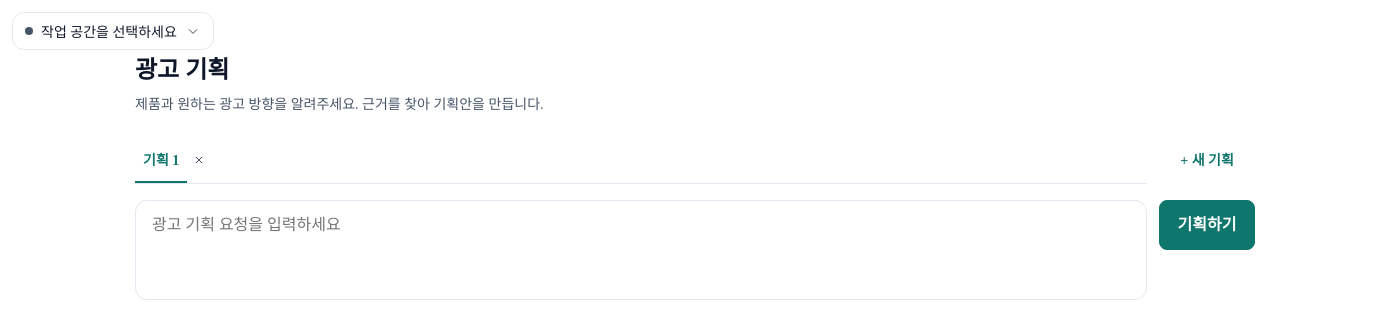
Scenario: enables input only after workspace selection and has no preset request buttons
Expected: the text box labelled "요청" is disabled, [135,200,1147,300]
Click the button "작업 공간을 선택하세요".
click(113, 31)  # box [12,12,214,50]
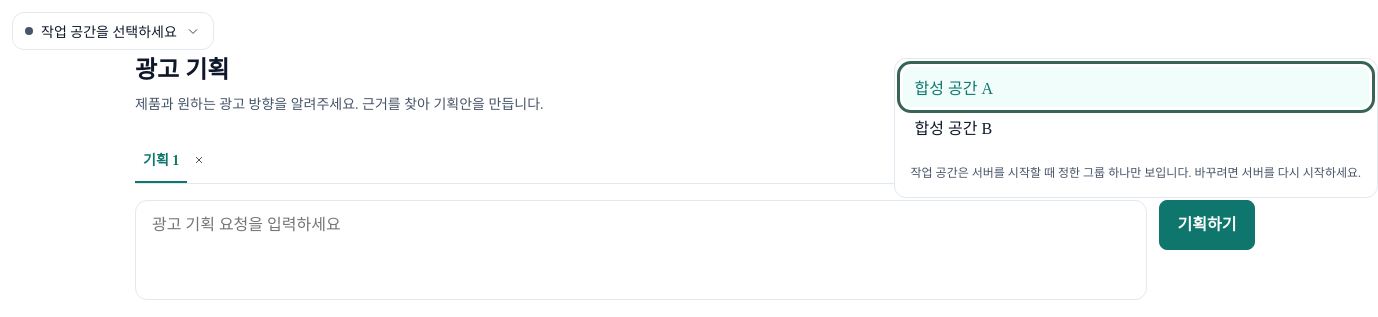
Click the option "합성 공간 A".
click(954, 88)  # box [902,67,1369,107]
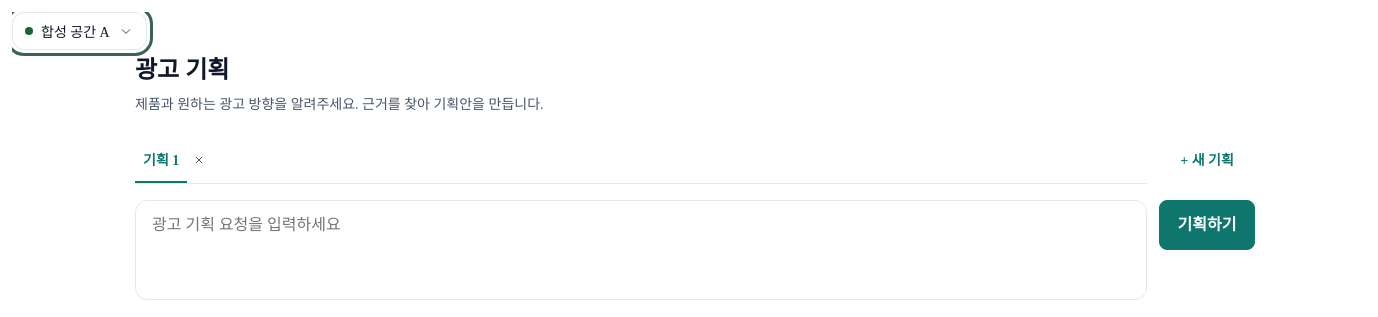
Expected: the text box labelled "요청" is enabled, [135,200,1147,300]
Result: the buttons read "합성 공간 A", "", "+ 새 기획", "기획하기", in this order
Click the button with aria-label "작업 공간".
click(79, 31)  # box [12,12,147,50]
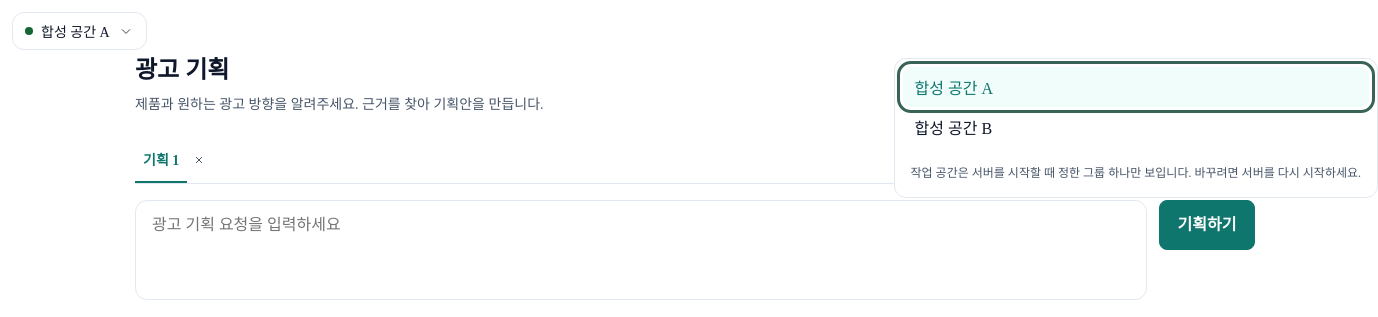
Result: the text "작업 공간은 서버를 시작할 때 정한 그룹 하나만 보입니다. 바꾸려면 서버를 다시 시작하세요." is shown at [910,166,1361,180]
